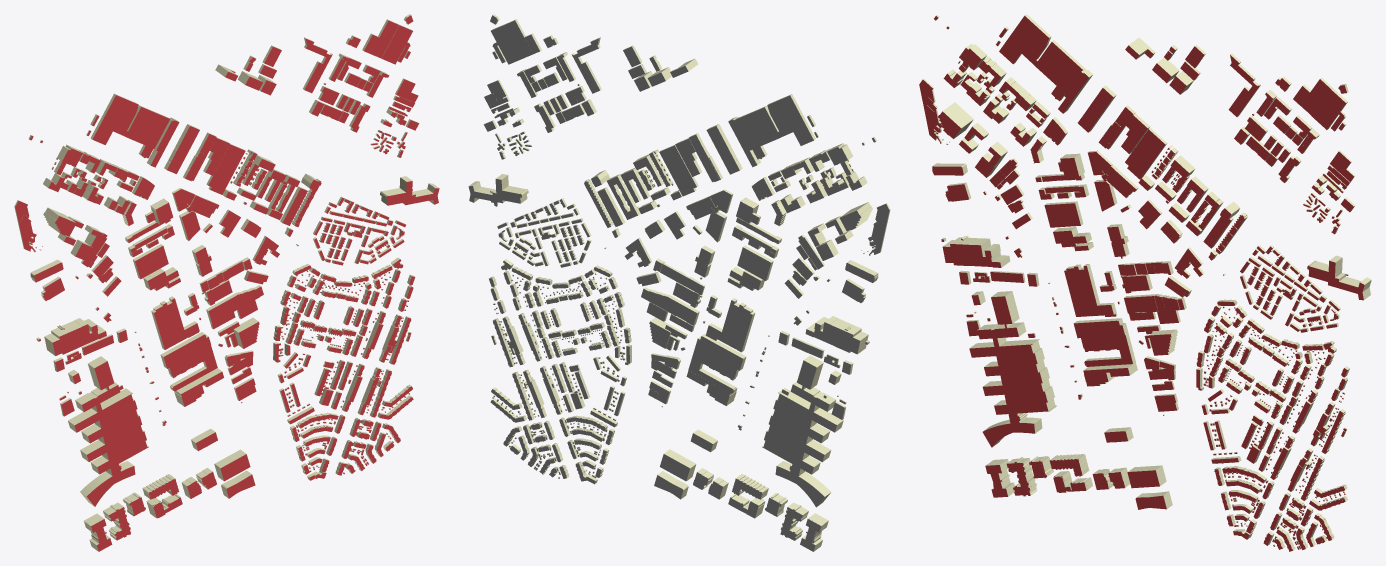
3 renders of one model, left to right at view 1: azimuth 30°, elevation 25°; view 2: azimuth 150°, elevation 25°; view 3: azimuth 330°, elevation 25°, orthographic. The views are drawn at different scales.
Visible parts, largest first — view 1: NL.IMBAG.Pand.0363100012202175-24, NL.IMBAG.Pand.0363100012114605-174, NL.IMBAG.Pand.0363100012201637-1, NL.IMBAG.Pand.0363100012064810-49, NL.IMBAG.Pand.0363100012134024-43, NL.IMBAG.Pand.0363100012150568-1884, NL.IMBAG.Pand.0363100012253661-1615, NL.IMBAG.Pand.0363100012209785-44, NL.IMBAG.Pand.0363100012253697-41, NL.IMBAG.Pand.0363100012111806-184, NL.IMBAG.Pand.0363100012240270-153, NL.IMBAG.Pand.0363100012252988-225 (+12 smaller); view 2: NL.IMBAG.Pand.0363100012202175-24, NL.IMBAG.Pand.0363100012114605-174, NL.IMBAG.Pand.0363100012201637-1, NL.IMBAG.Pand.0363100012064810-49, NL.IMBAG.Pand.0363100012134024-43, NL.IMBAG.Pand.0363100012150568-1884, NL.IMBAG.Pand.0363100012253661-1615, NL.IMBAG.Pand.0363100012209785-44, NL.IMBAG.Pand.0363100012111806-184, NL.IMBAG.Pand.0363100012240270-153, NL.IMBAG.Pand.0363100012252988-225, NL.IMBAG.Pand.0363100012079326-1946 (+10 smaller); view 3: NL.IMBAG.Pand.0363100012202175-24, NL.IMBAG.Pand.0363100012114605-174, NL.IMBAG.Pand.0363100012064810-49, NL.IMBAG.Pand.0363100012201637-1, NL.IMBAG.Pand.0363100012150568-1884, NL.IMBAG.Pand.0363100012134024-43, NL.IMBAG.Pand.0363100012253661-1615, NL.IMBAG.Pand.0363100012209785-44, NL.IMBAG.Pand.0363100012240270-153, NL.IMBAG.Pand.0363100012253697-41, NL.IMBAG.Pand.0363100012252853-67, NL.IMBAG.Pand.0363100012111806-184 (+12 smaller).
Boxes of the visible parts, left/top/right/bottom form: NL.IMBAG.Pand.0363100012202175-24: left=68, top=356, right=148, bottom=506; NL.IMBAG.Pand.0363100012114605-174: left=90, top=93, right=169, bottom=158; NL.IMBAG.Pand.0363100012201637-1: left=44, top=318, right=106, bottom=355; NL.IMBAG.Pand.0363100012064810-49: left=151, top=296, right=199, bottom=349; NL.IMBAG.Pand.0363100012134024-43: left=168, top=345, right=217, bottom=391; NL.IMBAG.Pand.0363100012150568-1884: left=380, top=176, right=439, bottom=205; NL.IMBAG.Pand.0363100012253661-1615: left=206, top=144, right=245, bottom=194; NL.IMBAG.Pand.0363100012209785-44: left=160, top=332, right=210, bottom=368; NL.IMBAG.Pand.0363100012253697-41: left=174, top=368, right=223, bottom=406; NL.IMBAG.Pand.0363100012111806-184: left=164, top=124, right=199, bottom=173; NL.IMBAG.Pand.0363100012240270-153: left=133, top=244, right=168, bottom=279; NL.IMBAG.Pand.0363100012252988-225: left=214, top=449, right=250, bottom=481; NL.IMBAG.Pand.0363100012202175-24: left=762, top=355, right=843, bottom=507; NL.IMBAG.Pand.0363100012114605-174: left=735, top=94, right=815, bottom=159; NL.IMBAG.Pand.0363100012201637-1: left=805, top=316, right=868, bottom=354; NL.IMBAG.Pand.0363100012064810-49: left=706, top=298, right=755, bottom=352; NL.IMBAG.Pand.0363100012134024-43: left=688, top=346, right=738, bottom=393; NL.IMBAG.Pand.0363100012150568-1884: left=468, top=174, right=528, bottom=203; NL.IMBAG.Pand.0363100012253661-1615: left=659, top=145, right=698, bottom=196; NL.IMBAG.Pand.0363100012209785-44: left=695, top=333, right=746, bottom=370; NL.IMBAG.Pand.0363100012111806-184: left=706, top=124, right=742, bottom=174; NL.IMBAG.Pand.0363100012240270-153: left=737, top=245, right=773, bottom=280; NL.IMBAG.Pand.0363100012252988-225: left=660, top=449, right=696, bottom=481; NL.IMBAG.Pand.0363100012079326-1946: left=571, top=37, right=601, bottom=93; NL.IMBAG.Pand.0363100012202175-24: left=969, top=291, right=1056, bottom=447; NL.IMBAG.Pand.0363100012114605-174: left=999, top=14, right=1084, bottom=101; NL.IMBAG.Pand.0363100012064810-49: left=1064, top=264, right=1116, bottom=316; NL.IMBAG.Pand.0363100012201637-1: left=942, top=237, right=1010, bottom=267; NL.IMBAG.Pand.0363100012150568-1884: left=1307, top=255, right=1371, bottom=300; NL.IMBAG.Pand.0363100012134024-43: left=1081, top=333, right=1135, bottom=366; NL.IMBAG.Pand.0363100012253661-1615: left=1125, top=128, right=1167, bottom=179; NL.IMBAG.Pand.0363100012209785-44: left=1073, top=318, right=1128, bottom=338; NL.IMBAG.Pand.0363100012240270-153: left=1044, top=201, right=1083, bottom=227; NL.IMBAG.Pand.0363100012253697-41: left=1083, top=362, right=1137, bottom=386; NL.IMBAG.Pand.0363100012252853-67: left=938, top=102, right=973, bottom=138; NL.IMBAG.Pand.0363100012111806-184: left=1078, top=85, right=1116, bottom=132.
Bounding box in the file's own units: 997 × 1043 × 50.21.
